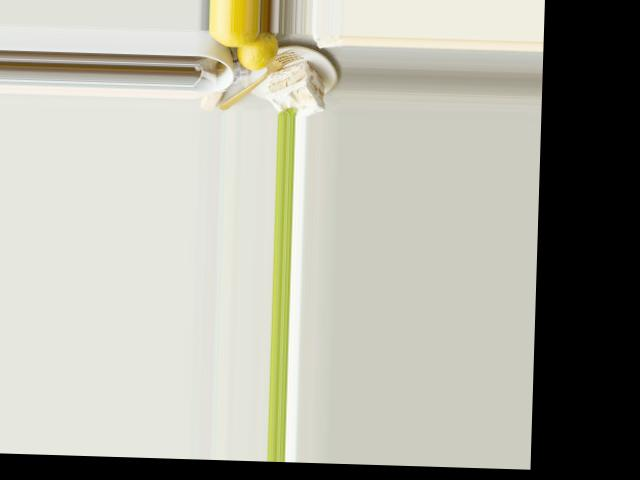lemon: (207, 29, 260, 49)
